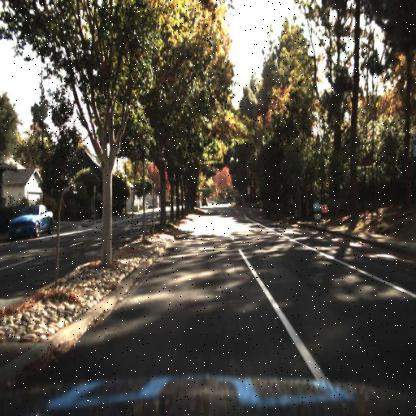car: (4, 202, 54, 240), (5, 201, 54, 239), (199, 192, 208, 208)
